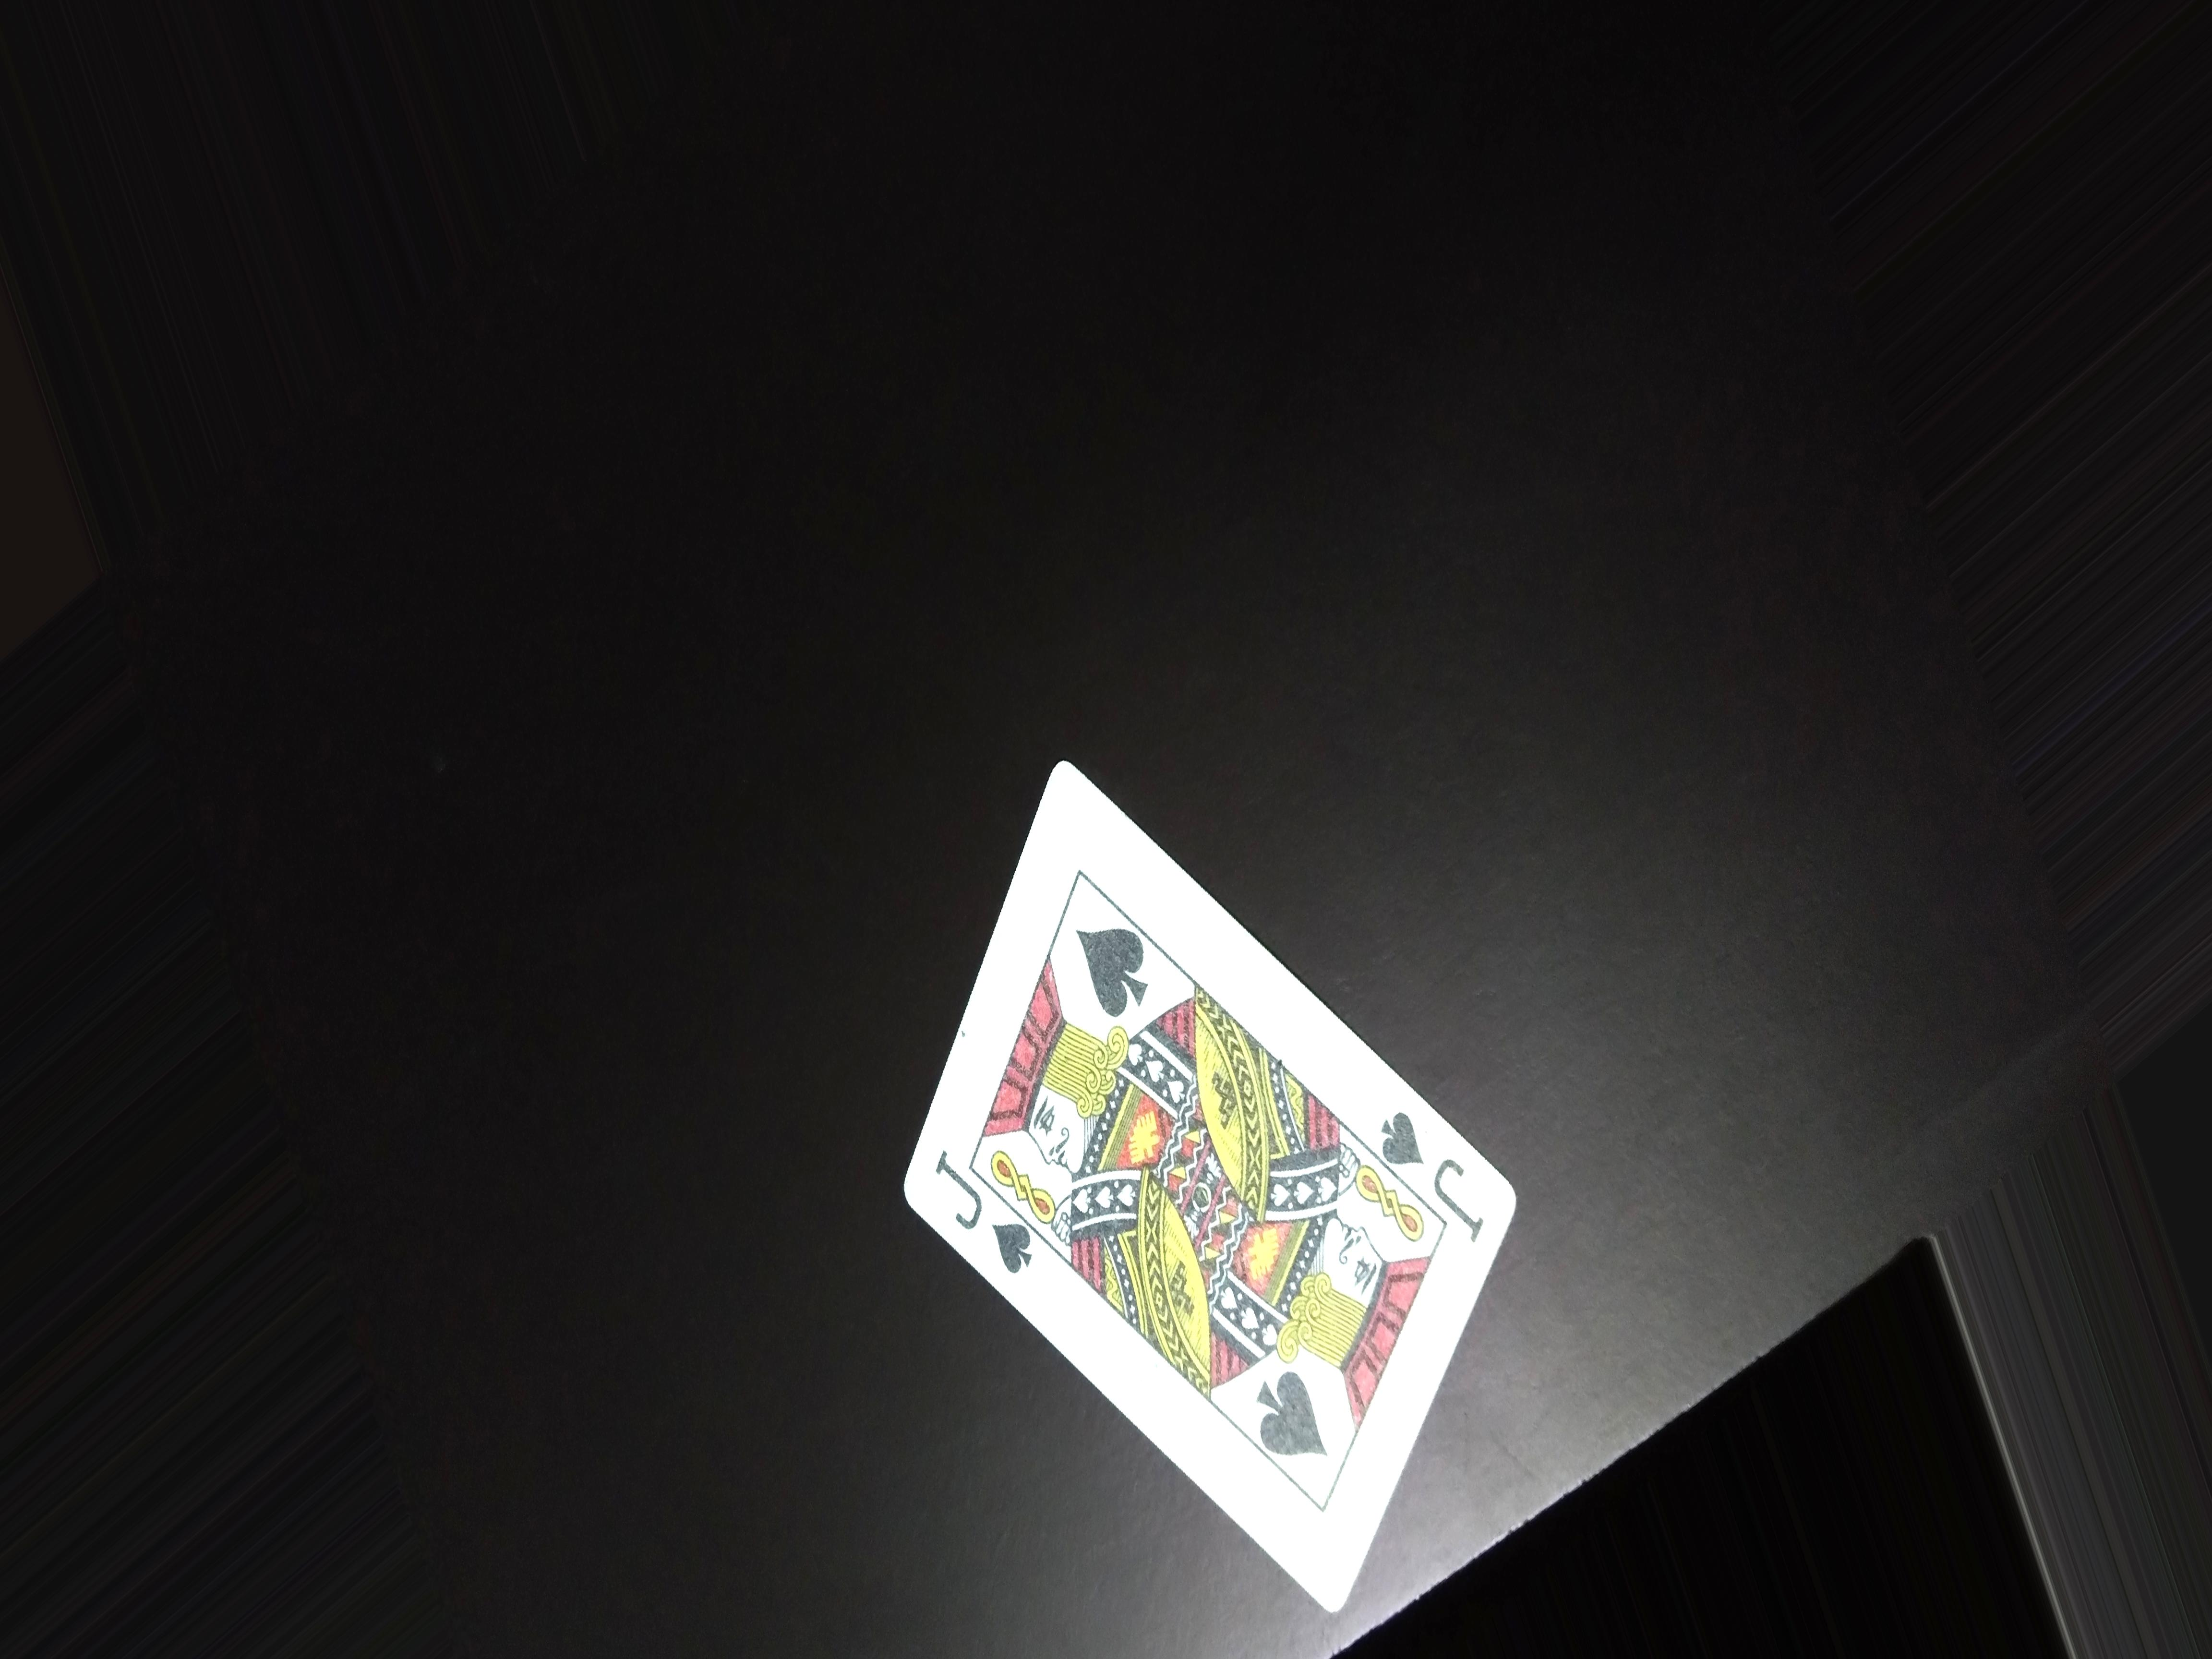JS: (1374, 1103, 1491, 1246)
